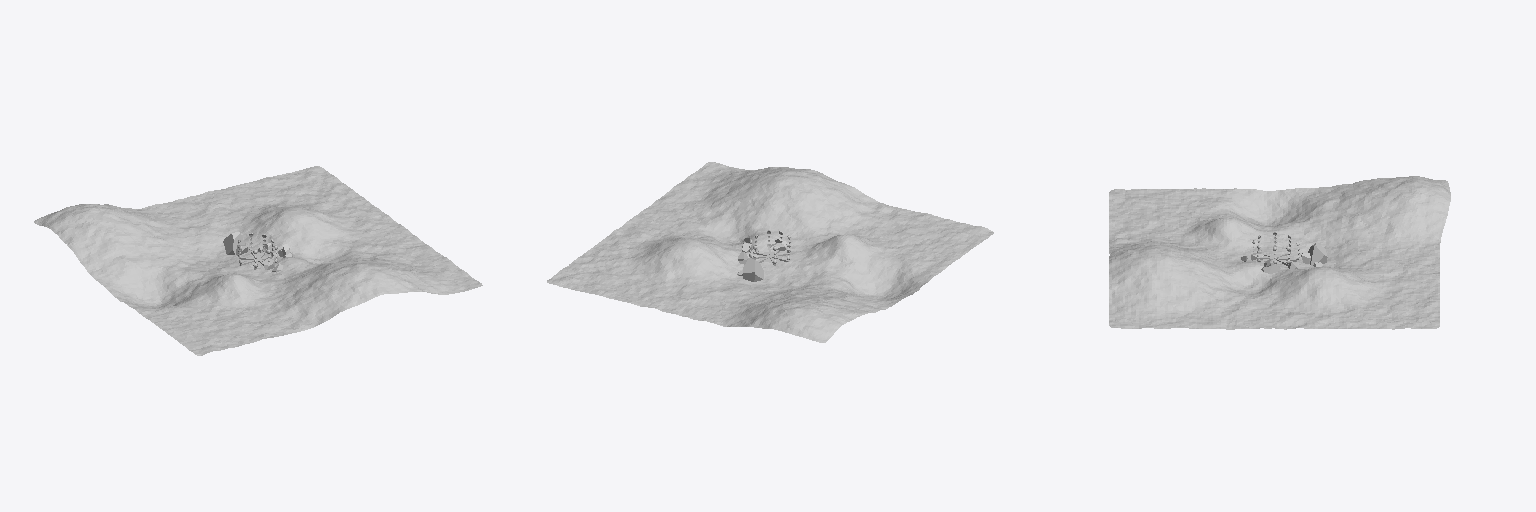
Rendered from Totem_Test.obj.
The picture shows the model from 3 angles: view 1: azimuth 30°, elevation 25°; view 2: azimuth 150°, elevation 25°; view 3: azimuth 270°, elevation 25°; orthographic projection.
Visible parts, largest first — view 1: Plane; view 2: Plane; view 3: Plane.
Boxes of the visible parts, x1=… form: Plane: x1=34, y1=166, x2=482, y2=355; Plane: x1=547, y1=162, x2=993, y2=342; Plane: x1=1109, y1=176, x2=1450, y2=329.
Size of the model in its own units: 42.96 by 6.34 by 44.35.